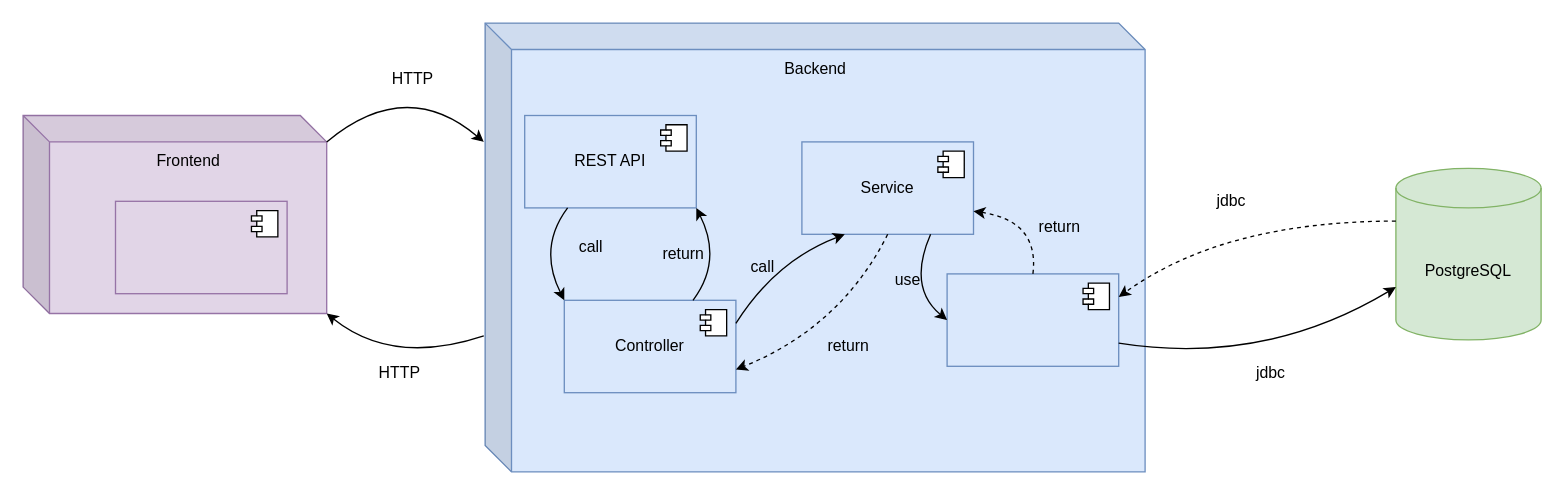
Image size: 1564x495. Some labels were removed from this diagram. Here are the shapes that lost their labels. From the top down, the centre of each, then its label:
At pixel 200 247: "UI/UX".
At pixel 1032 319: "Repository".
